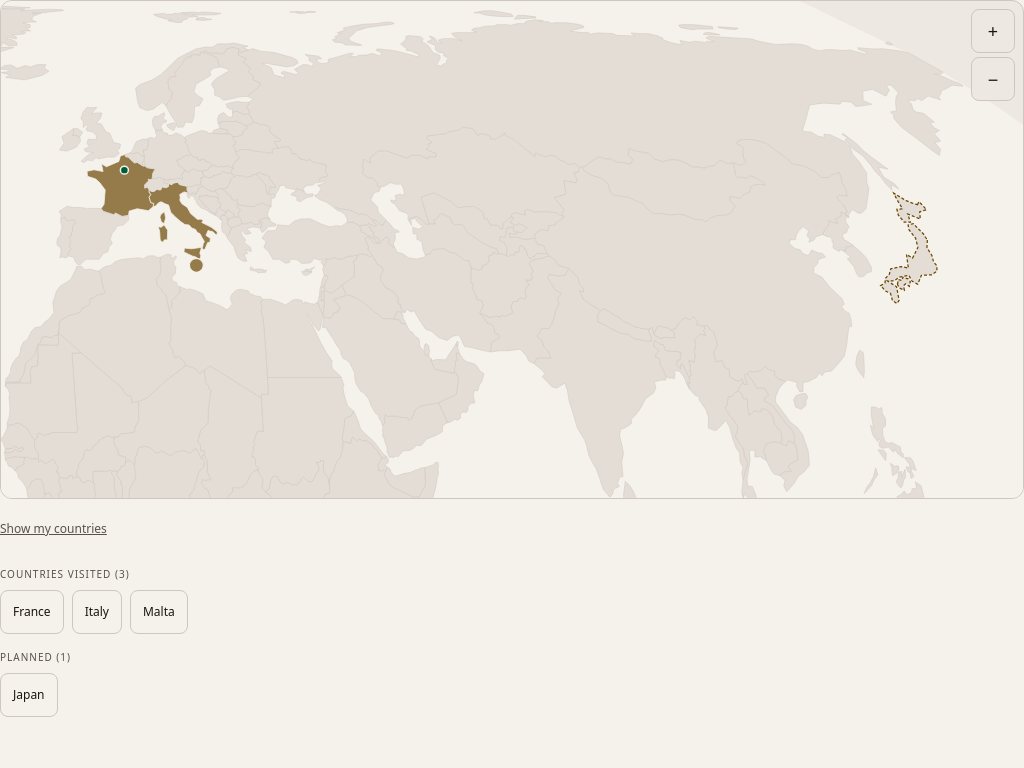
Test case: a country's sheet › opens from the list: the country's trips newest first, dates, cities there, and "Planned" on a planned trip
Expected: the button "Show my countries" is shown, top-left (0, 507), bottom-right (107, 551)
Click the button "France" at x=32, y=612, box top-left (0, 590), bottom-right (64, 634)
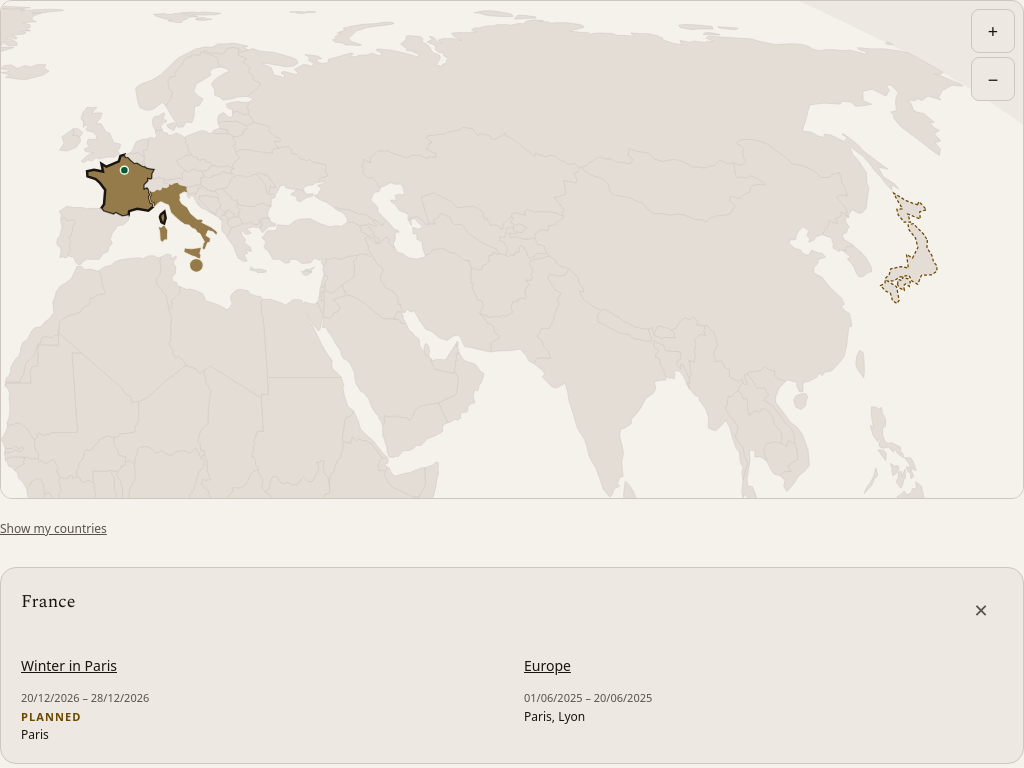
Result: the heading "France" is shown at top-left (21, 588), bottom-right (76, 616)
Result: the list items read "Winter in Paris20/12/2026 – 28/12/2026PlannedParis", "Europe01/06/2025 – 20/06/2025Paris, Lyon", in this order at top-left (21, 644), bottom-right (149, 743); top-left (524, 644), bottom-right (652, 725)
